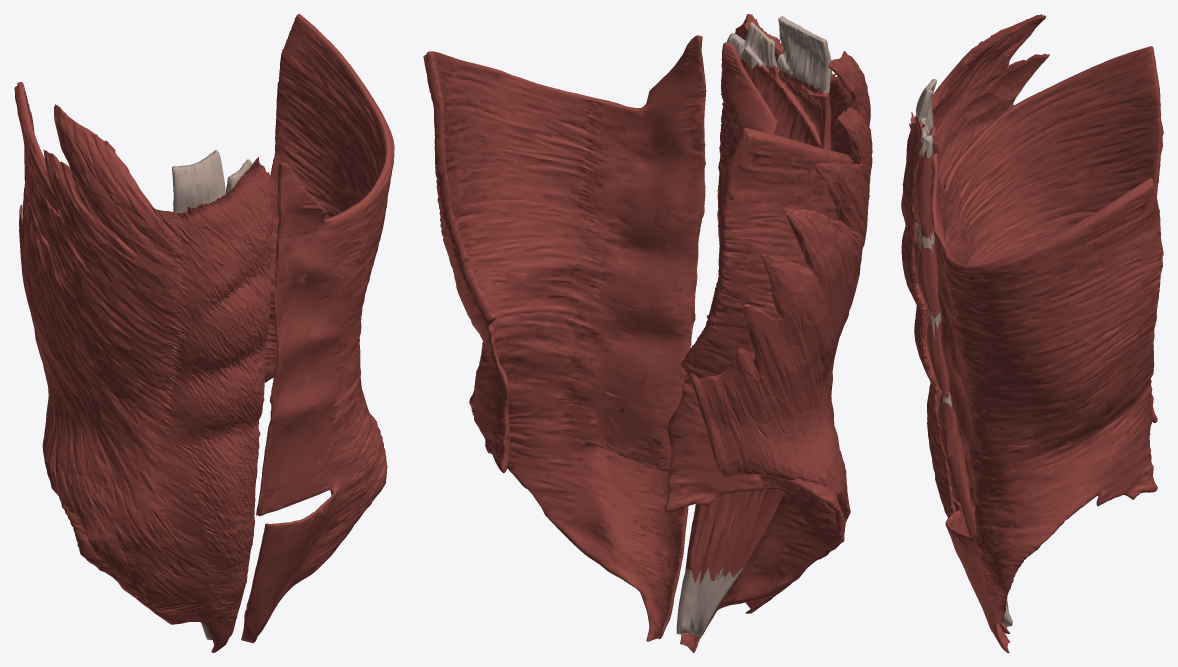
The model's file is muscles-3.glb.
3 views of the same model, side by side, from view 1: azimuth 30°, elevation 25°; view 2: azimuth 150°, elevation 25°; view 3: azimuth 270°, elevation 25° (orthographic). The views are drawn at different scales.
Visible parts, largest first — view 1: External_abdominal_oblique_muscler, Transversus_abdominis_musclel, Transversus_abdominis_muscler, Rectus_abdominis_muscler; view 2: Transversus_abdominis_musclel, Transversus_abdominis_muscler, External_abdominal_oblique_muscler, Rectus_abdominis_muscler; view 3: Transversus_abdominis_musclel, Transversus_abdominis_muscler, External_abdominal_oblique_muscler, Rectus_abdominis_muscler.
Boxes of the visible parts, box(x1,y1,x2,y2) form: External_abdominal_oblique_muscler: box(19, 104, 272, 629); Transversus_abdominis_musclel: box(241, 14, 394, 643); Transversus_abdominis_muscler: box(14, 82, 243, 652); Rectus_abdominis_muscler: box(172, 150, 265, 640); Transversus_abdominis_musclel: box(423, 35, 706, 641); Transversus_abdominis_muscler: box(665, 42, 853, 652); External_abdominal_oblique_muscler: box(689, 14, 872, 613); Rectus_abdominis_muscler: box(676, 16, 831, 636); Transversus_abdominis_musclel: box(930, 153, 1163, 652); Transversus_abdominis_muscler: box(930, 46, 1163, 633); External_abdominal_oblique_muscler: box(901, 14, 1049, 517); Rectus_abdominis_muscler: box(914, 79, 1012, 627).
Bounding box in the file's own units: 0.274 × 0.4392 × 0.1886.
